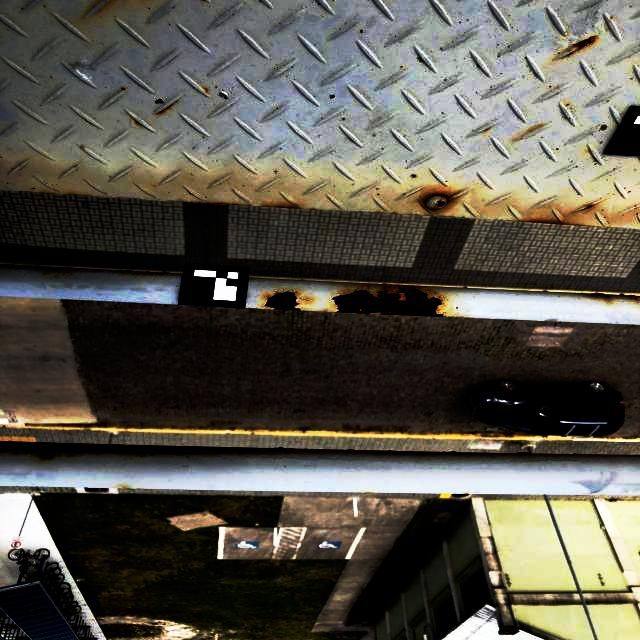Corrosion: (332, 286, 443, 317), (265, 292, 299, 310), (47, 266, 72, 277), (577, 37, 596, 47), (530, 220, 564, 225), (262, 205, 302, 209), (436, 201, 447, 208), (585, 205, 594, 209)
